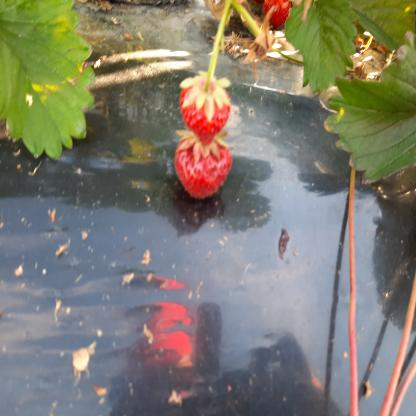ripe: (176, 133, 234, 204), (180, 84, 233, 134), (263, 0, 292, 28)
